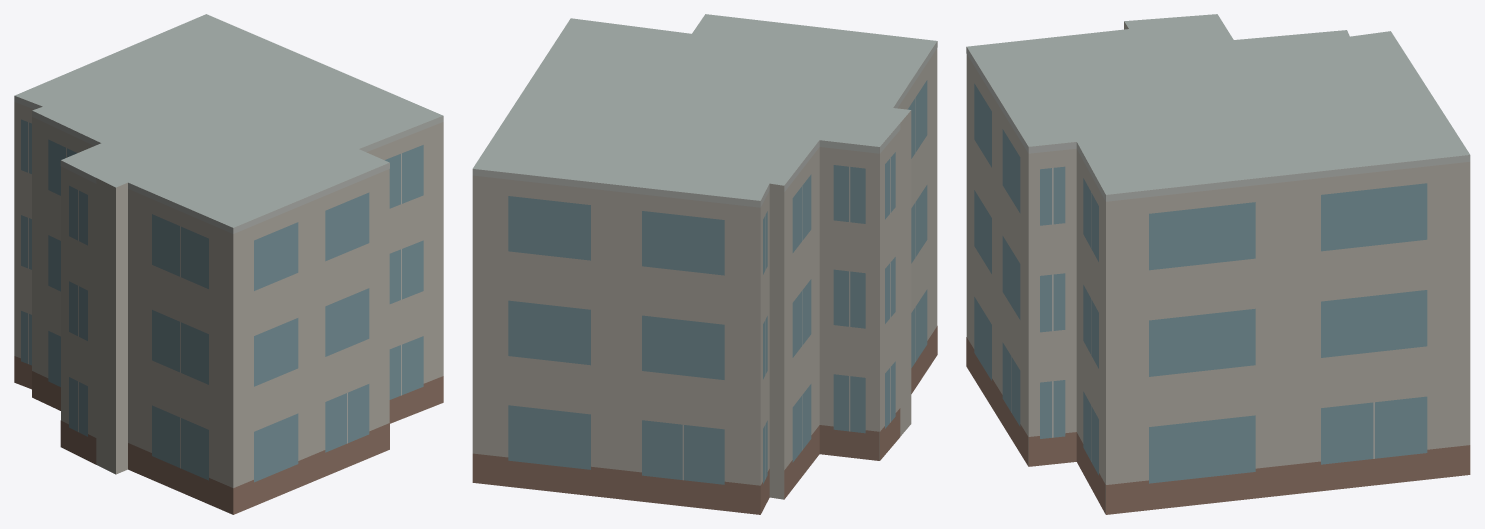
Rendered from survey-upis-32663166.glb.
The picture shows the model from 3 angles, left to right: view 1: azimuth 30°, elevation 25°; view 2: azimuth 150°, elevation 25°; view 3: azimuth 270°, elevation 25°; orthographic projection. The views are drawn at different scales.
Visible parts, largest first — view 1: survey-upis-32663166.tmp; view 2: survey-upis-32663166.tmp; view 3: survey-upis-32663166.tmp.
Boxes of the visible parts, x1,y1,x2,y2 form: survey-upis-32663166.tmp: (14, 14, 443, 514); survey-upis-32663166.tmp: (472, 14, 937, 514); survey-upis-32663166.tmp: (966, 14, 1470, 514).
Bounding box in the file's own units: 13.84 × 11.4 × 16.28.
